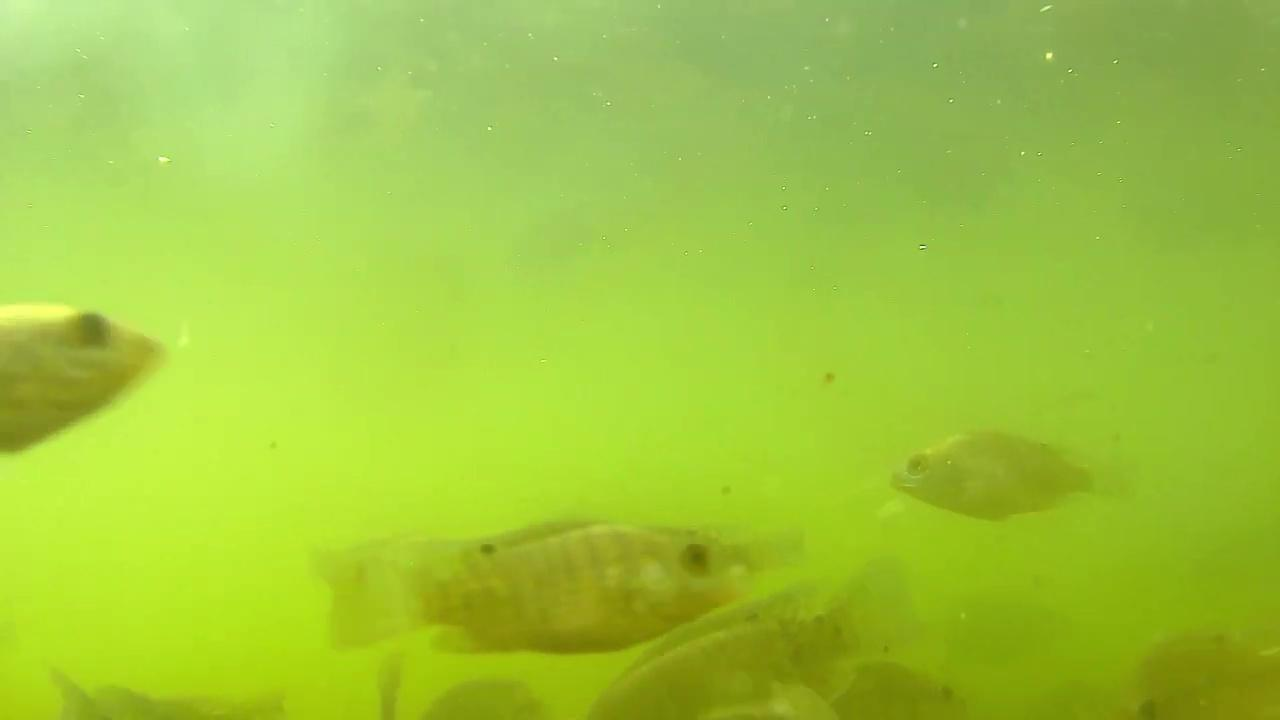Tilapia: (312, 518, 759, 664), (0, 294, 165, 468), (882, 426, 1111, 522)
